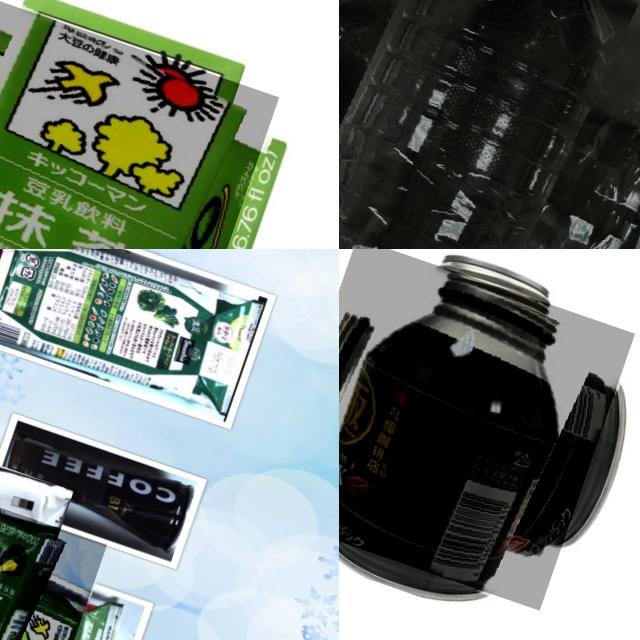Aluminium Foil: (0, 0, 279, 249), (0, 249, 267, 423), (0, 474, 107, 640)
Can: (339, 249, 634, 609), (0, 420, 198, 563)
Transparent Plastic Bottle: (339, 0, 640, 249)
